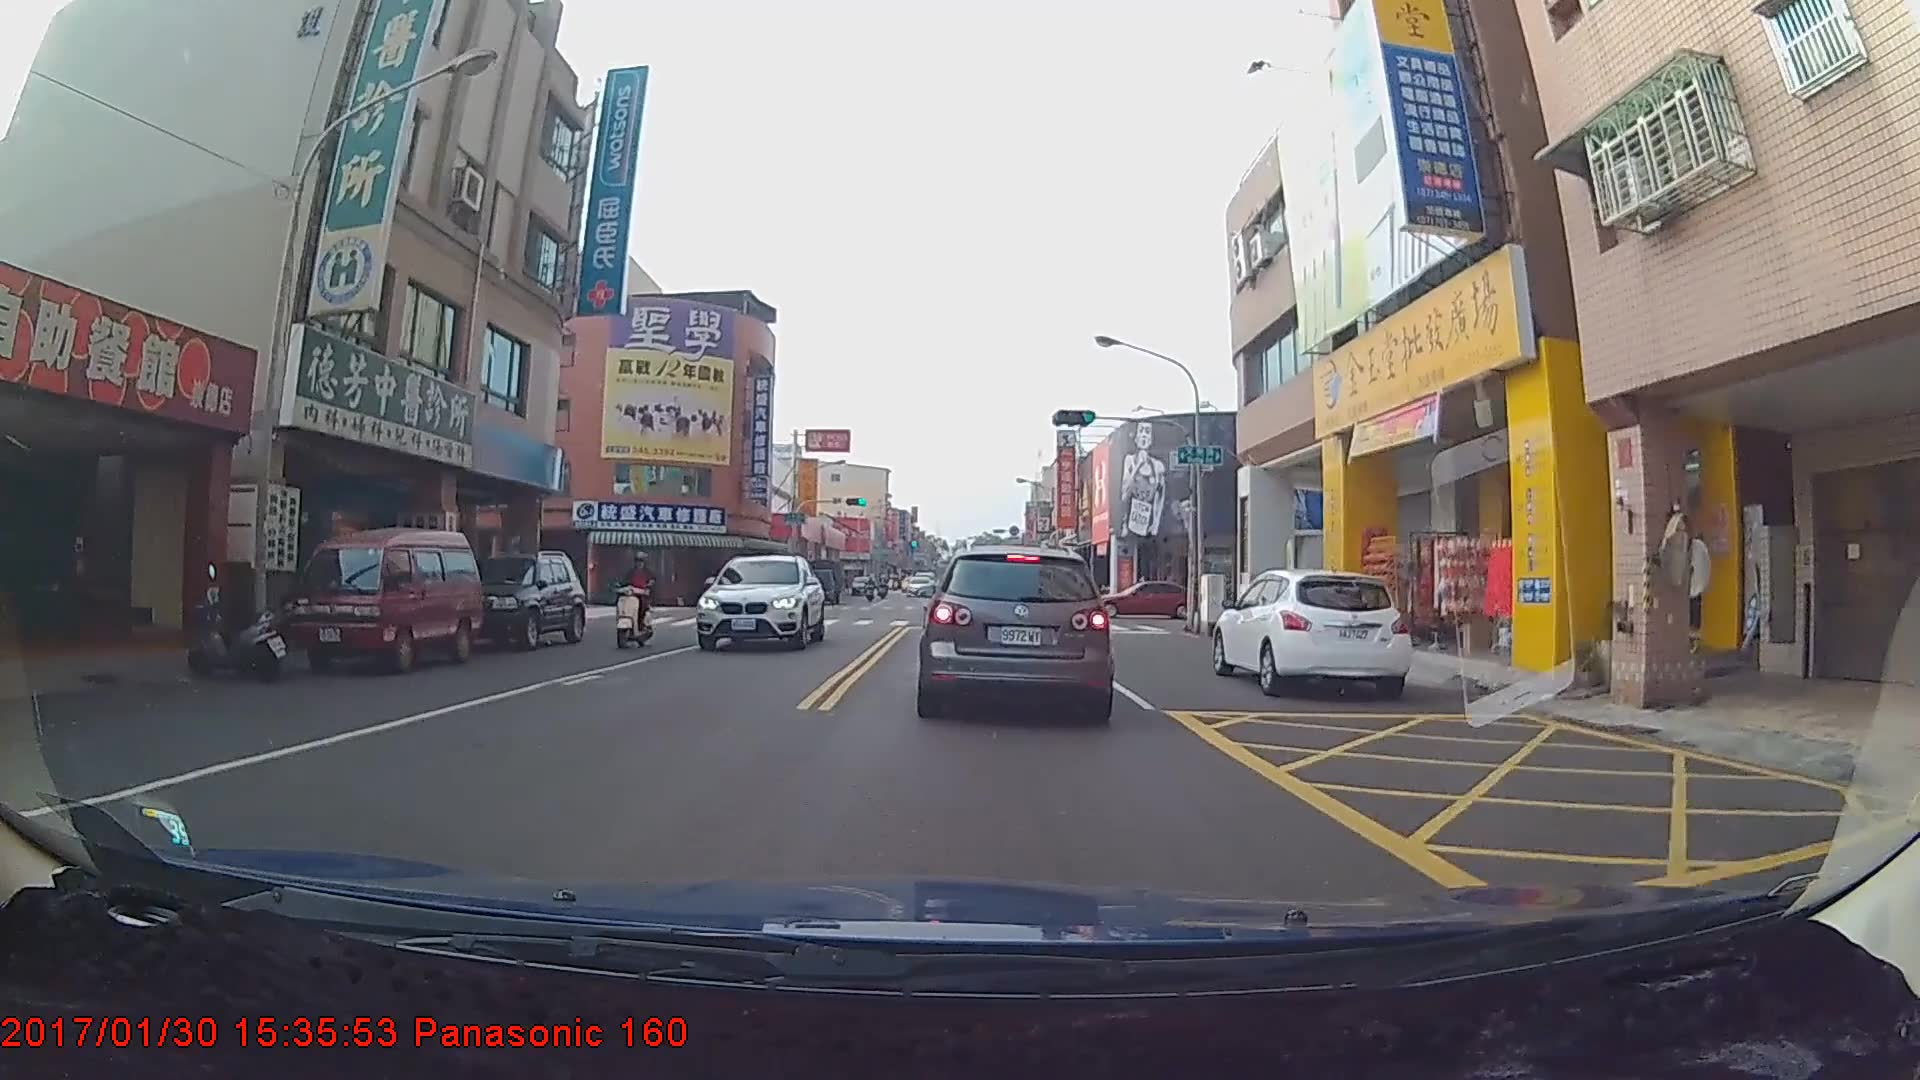rider: (609, 551, 662, 653)
vehicle: (920, 539, 1112, 720), (1211, 565, 1414, 696), (293, 533, 480, 673), (438, 547, 586, 652), (699, 552, 826, 654), (1089, 579, 1197, 617), (791, 555, 843, 604), (905, 576, 933, 597)
